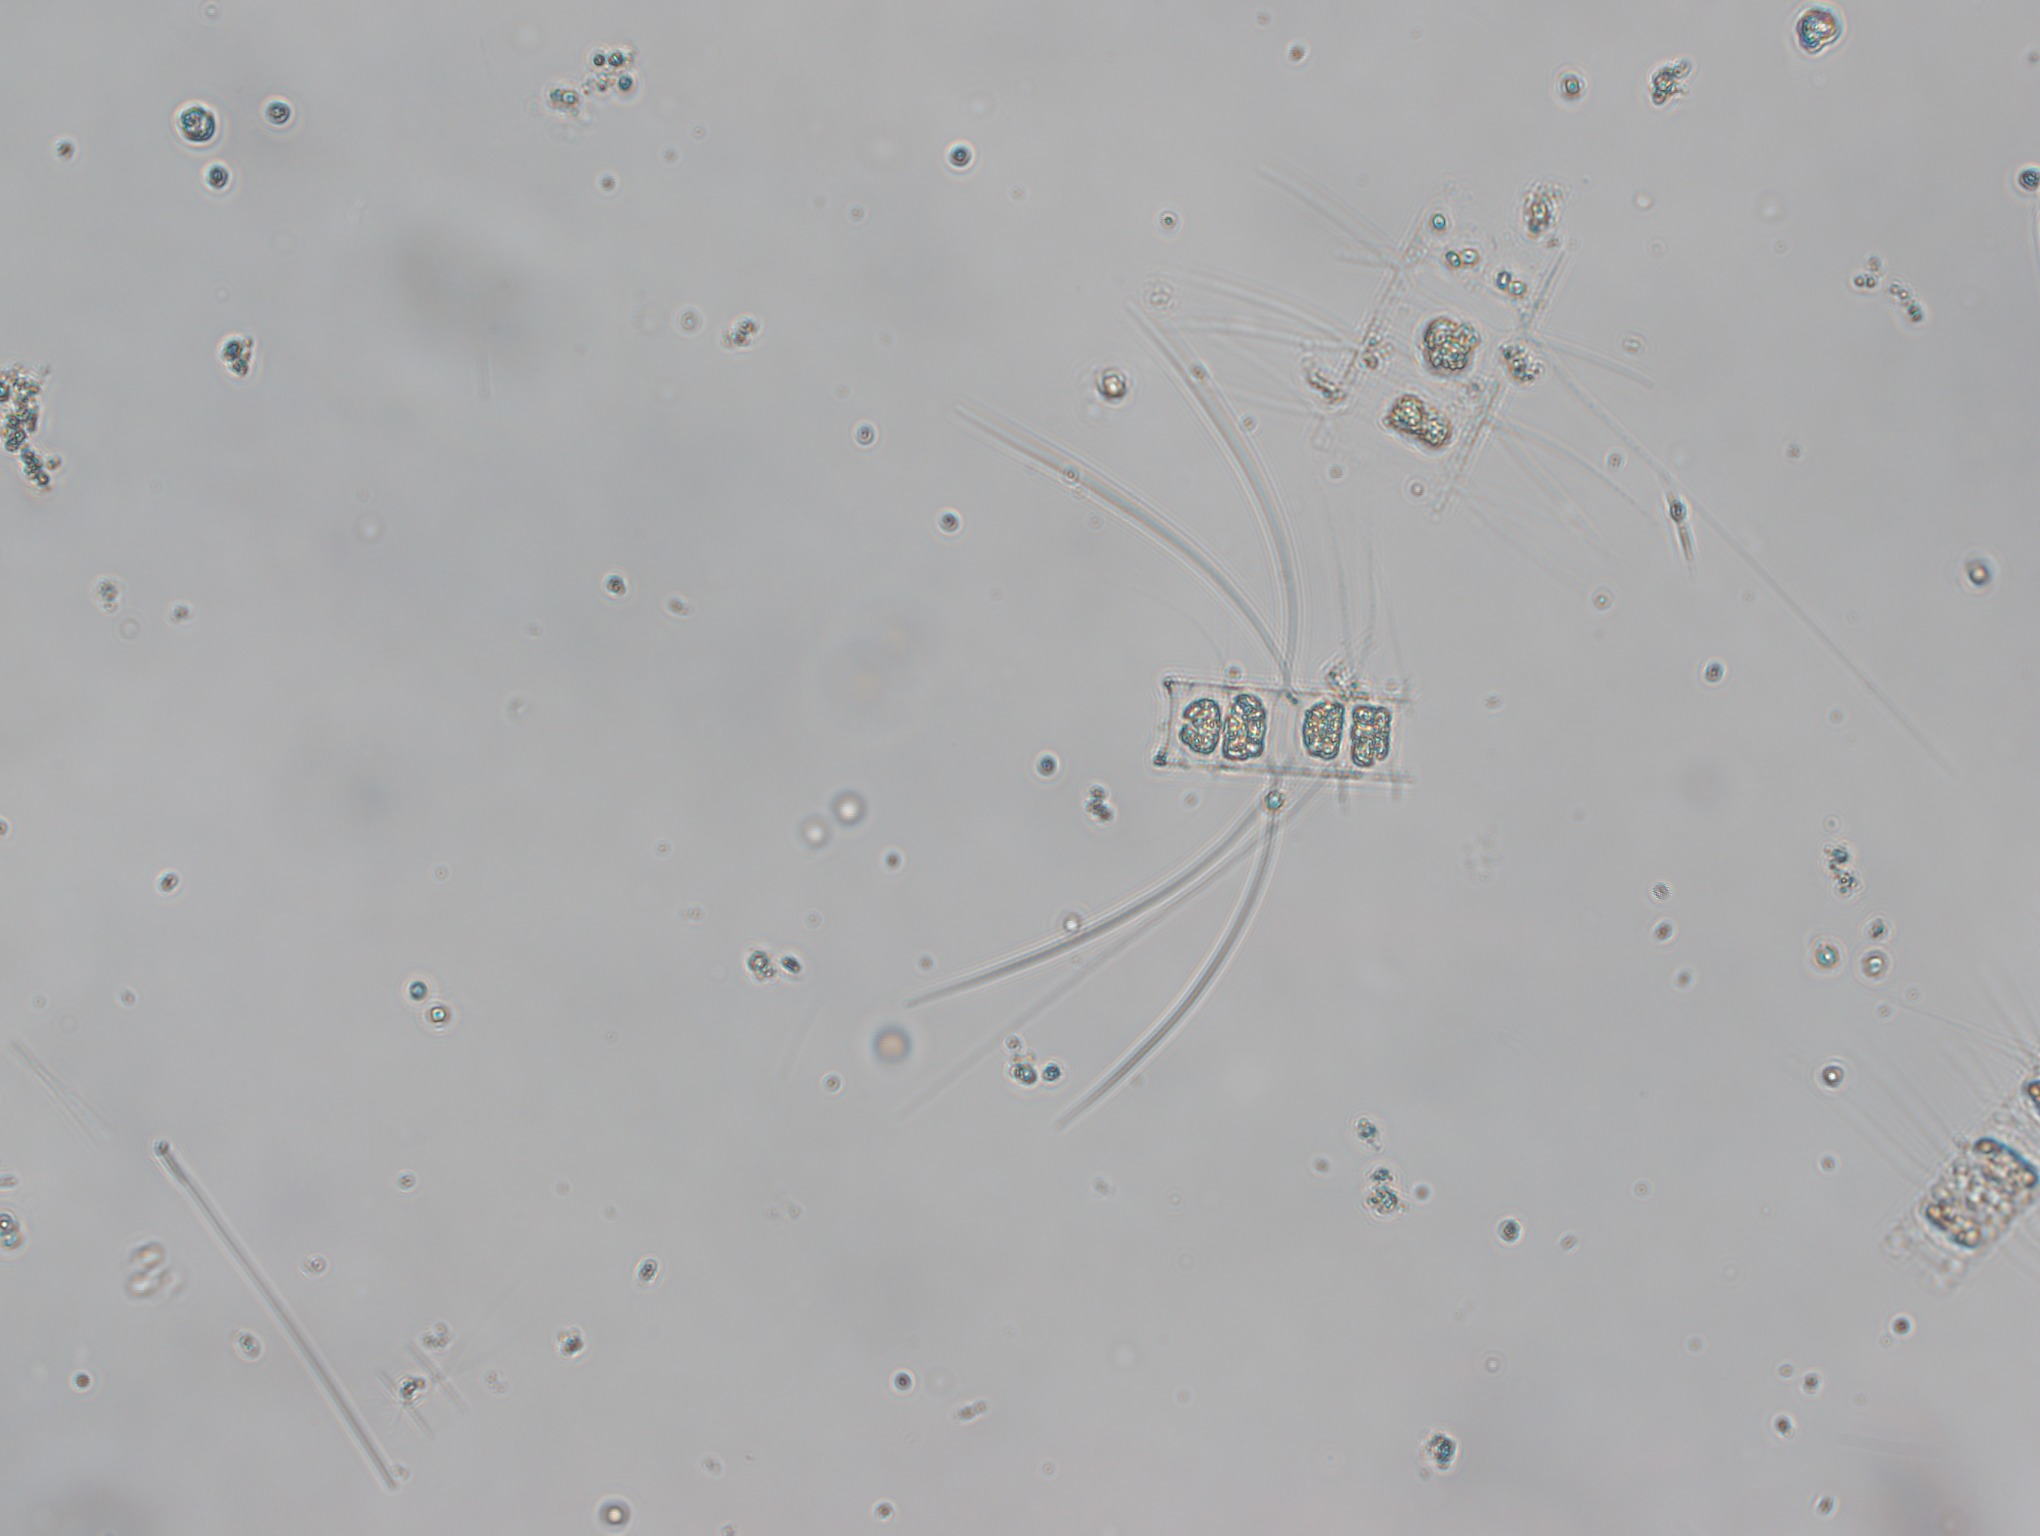chaetoceros: (905, 302, 1429, 1141), (1156, 168, 1743, 573), (1838, 989, 2040, 1292)
